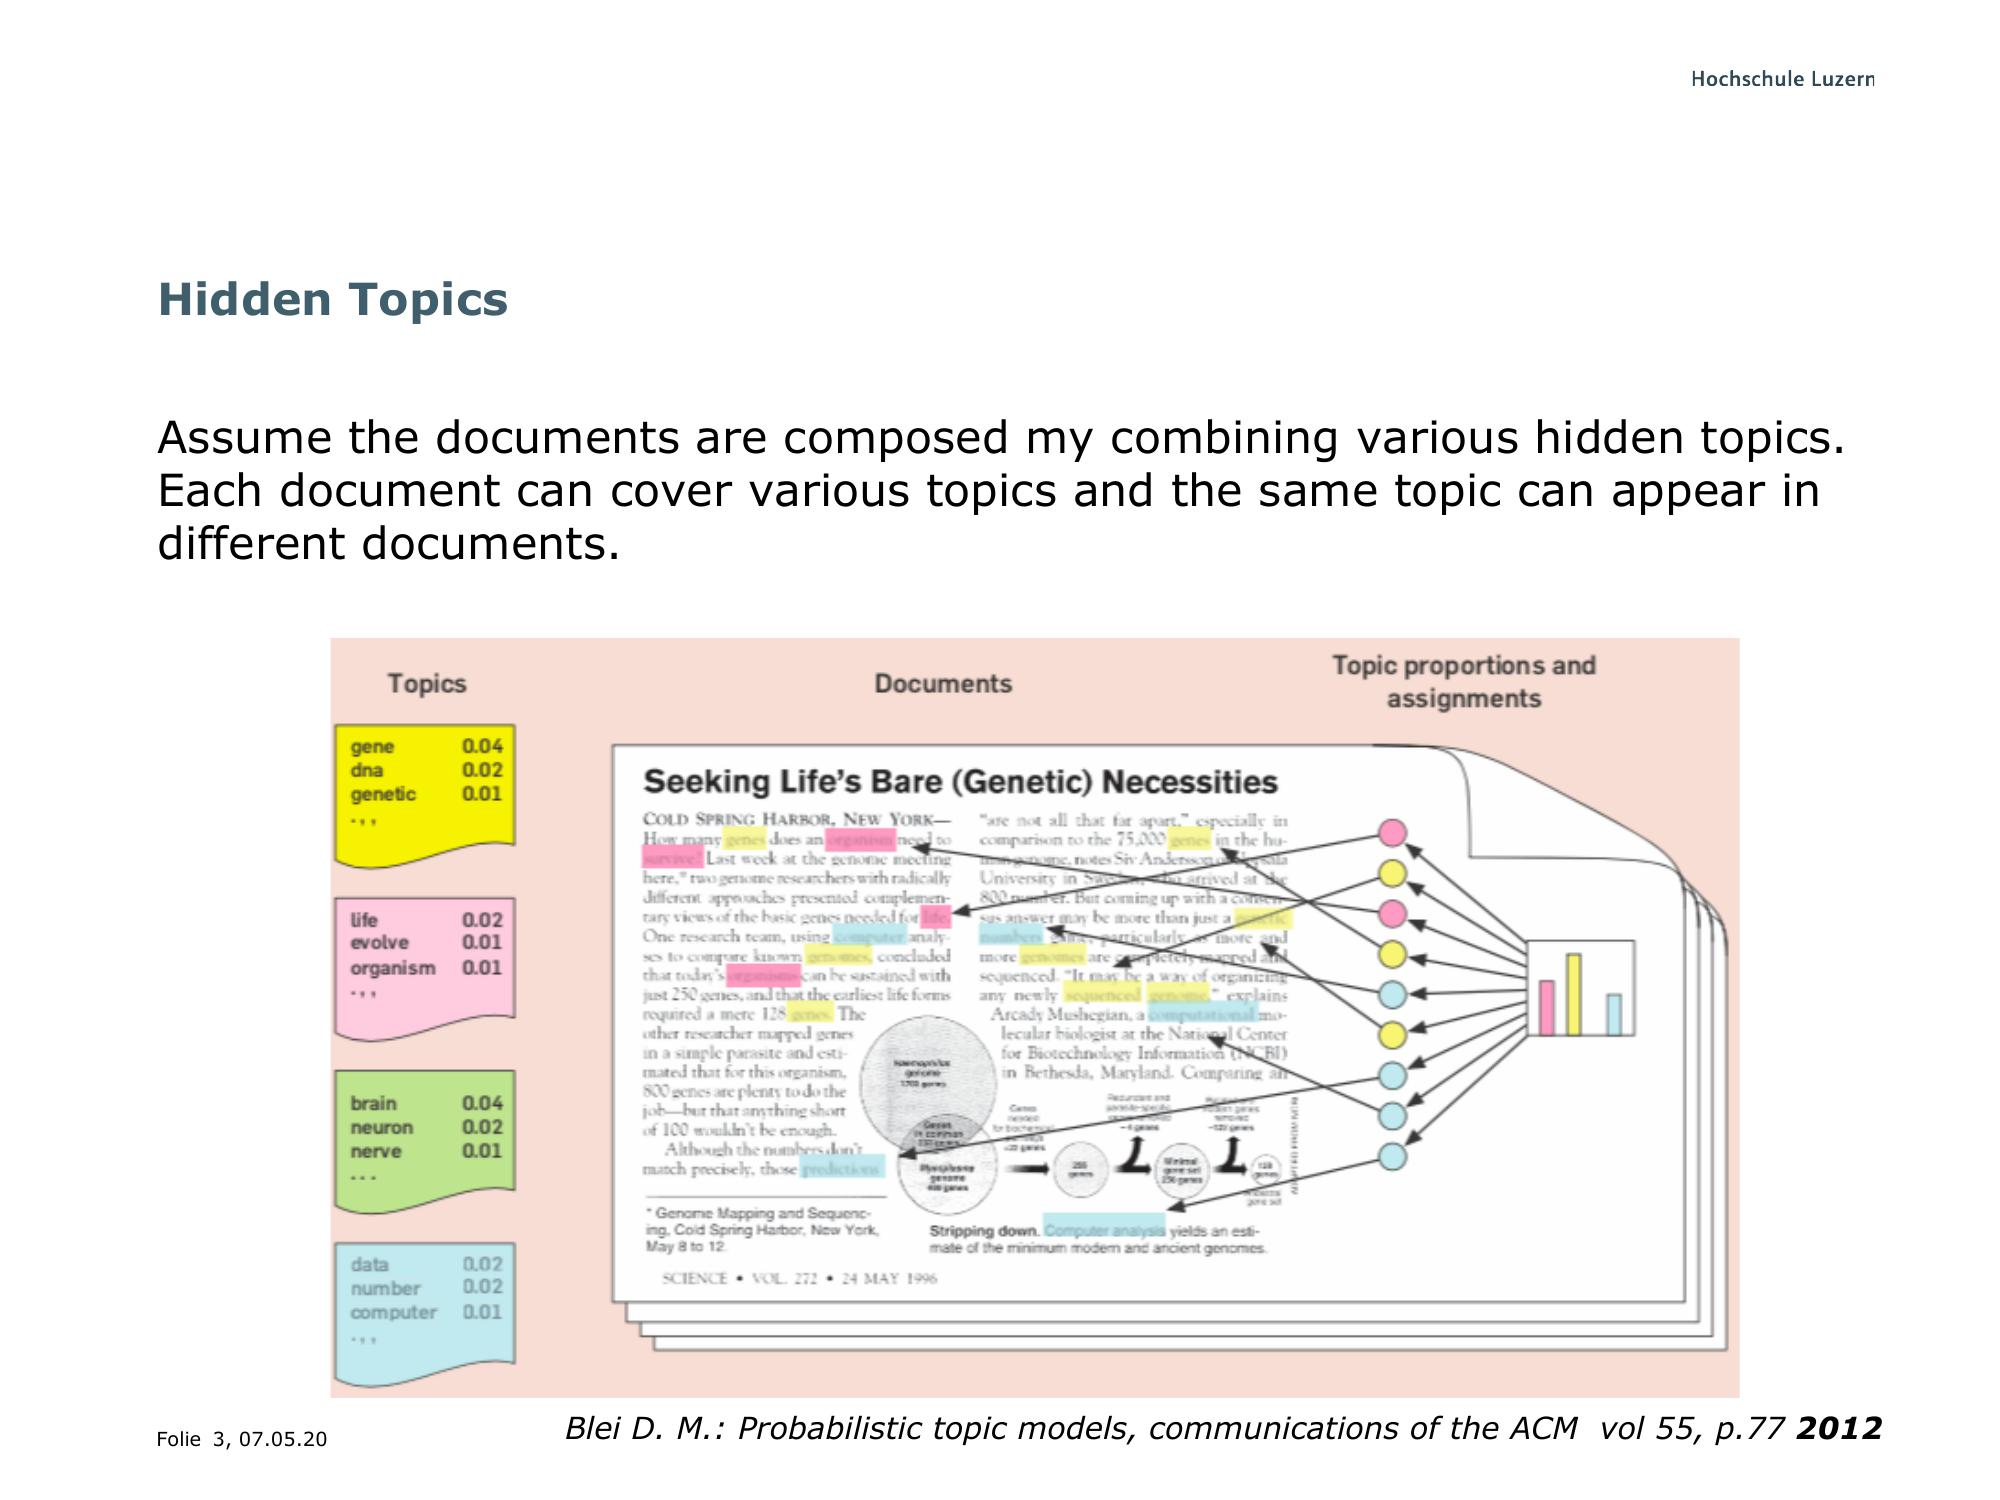Title: (140, 268, 518, 328)
